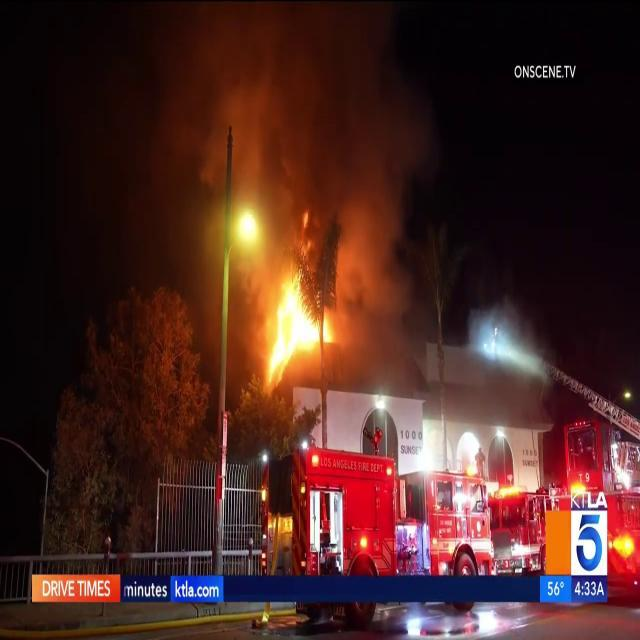Fire: (261, 268, 337, 378)
